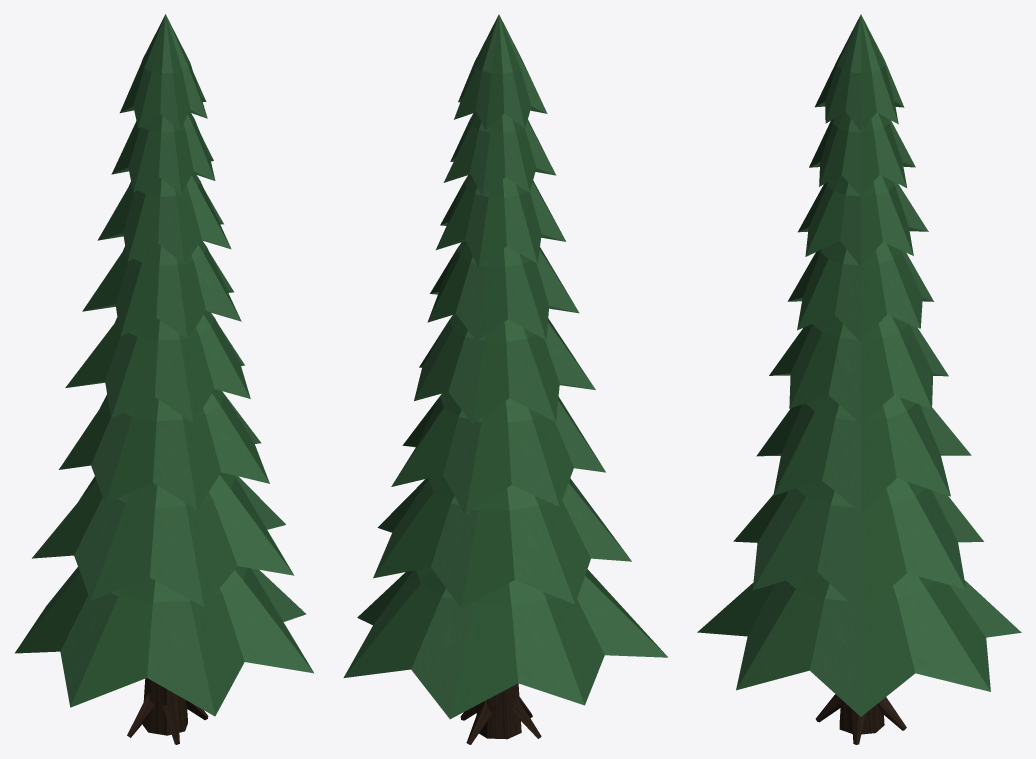
Rendered from tree_pine_01.glb.
3 renders of one model, left to right at view 1: azimuth 30°, elevation 25°; view 2: azimuth 150°, elevation 25°; view 3: azimuth 270°, elevation 25°, orthographic.
Visible parts, largest first — view 1: tree_pine_01; view 2: tree_pine_01; view 3: tree_pine_01.
Boxes of the visible parts, bbox=[...] form: tree_pine_01: bbox=[14, 14, 313, 744]; tree_pine_01: bbox=[343, 14, 667, 744]; tree_pine_01: bbox=[697, 14, 1021, 744].
Size of the model in its own units: 3.34 by 8.33 by 3.44.
Materials: 3 (3 with a texture image).
